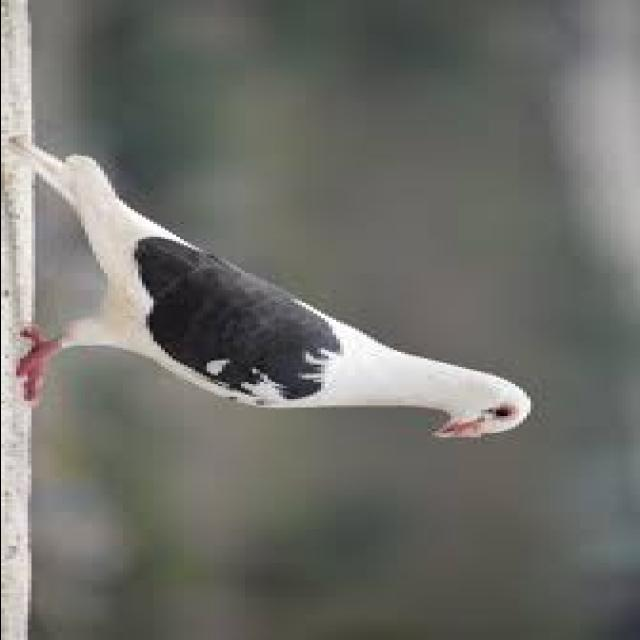pigeon: (0, 136, 549, 458)
